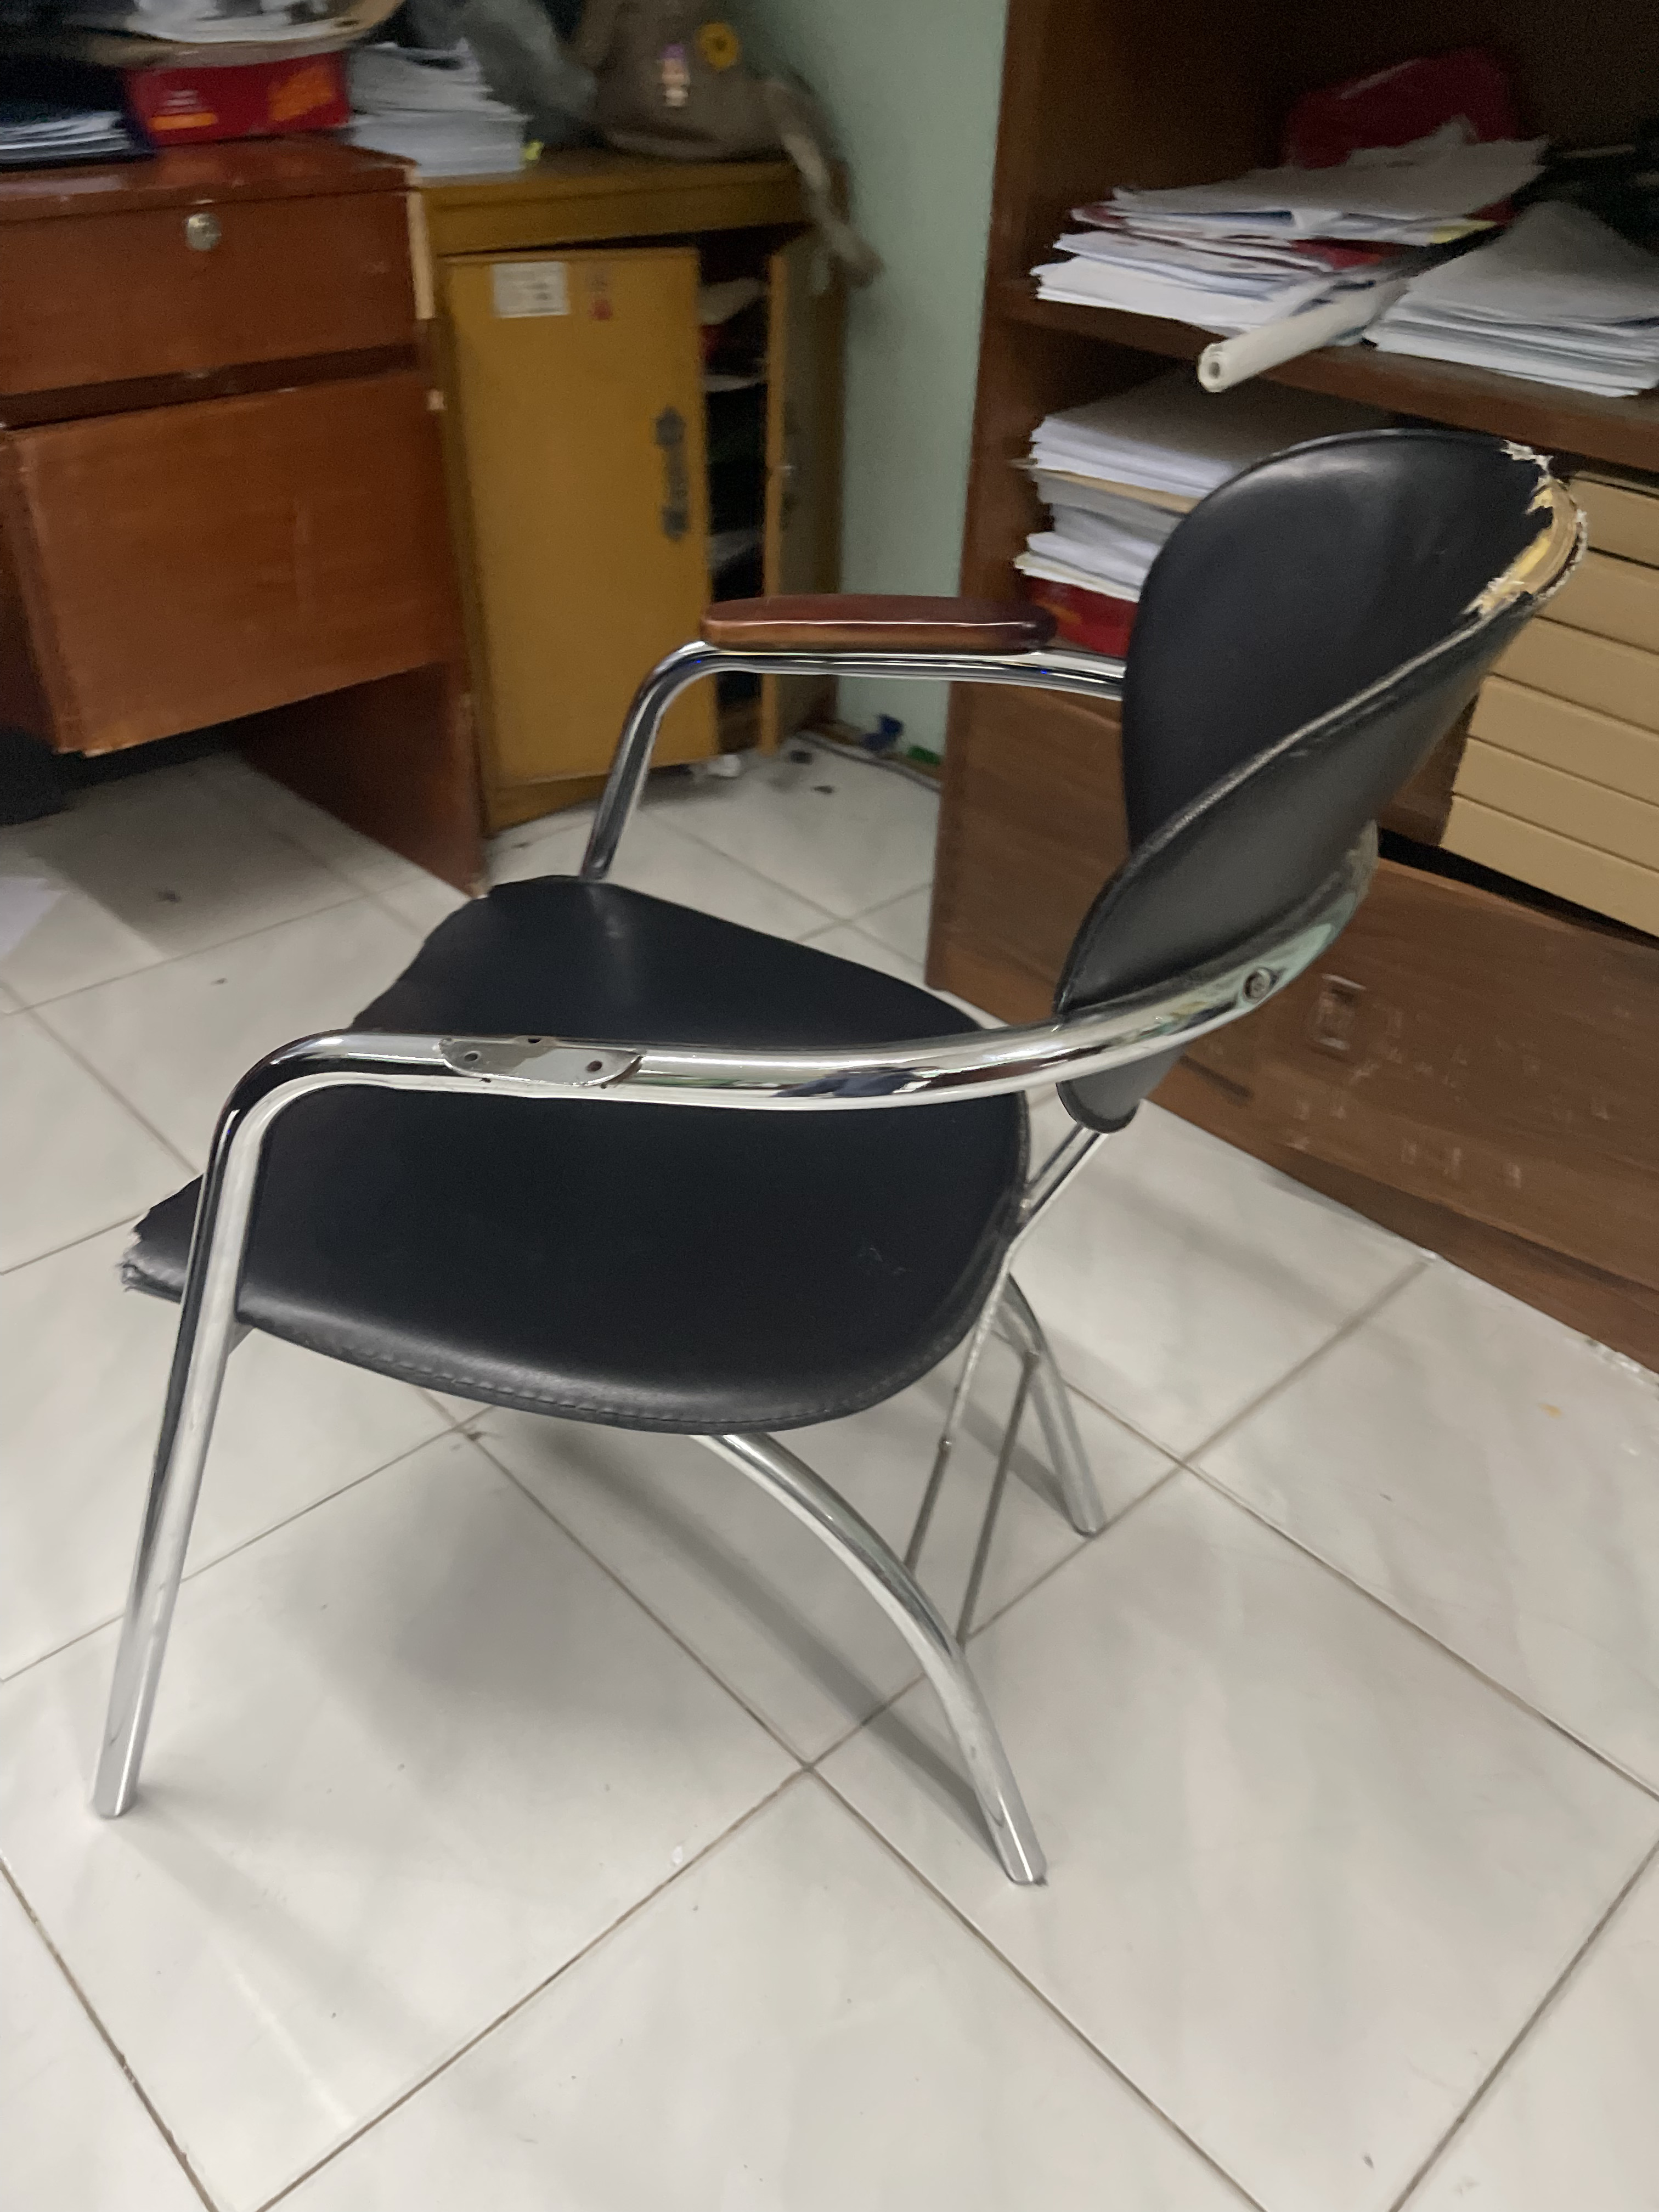chair1: (89, 427, 1586, 1905)
